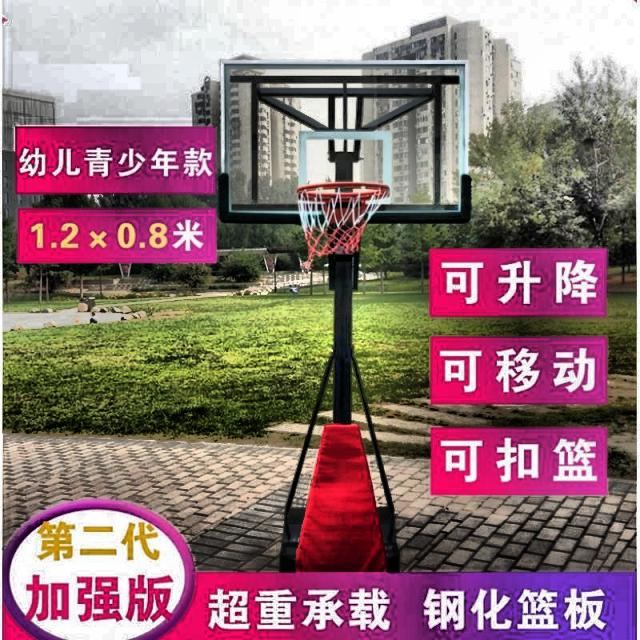rim: (300, 181, 391, 259)
